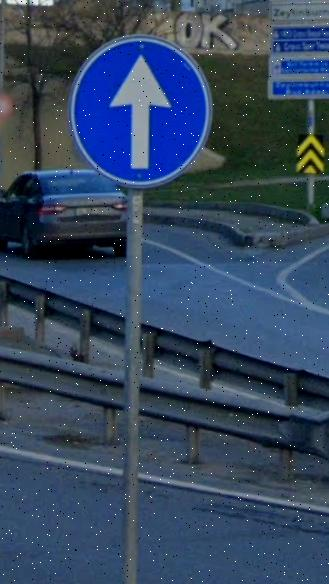crossroads: (78, 42, 203, 186)
